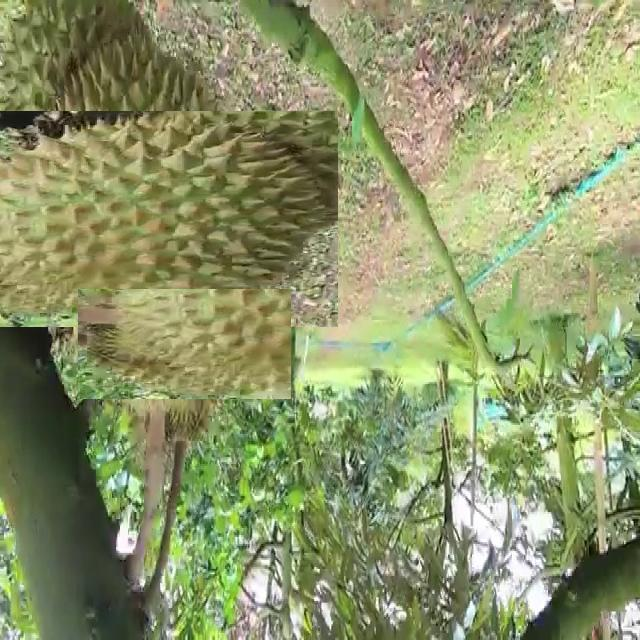durian: (0, 67, 295, 372), (104, 263, 266, 425), (179, 356, 191, 369)
